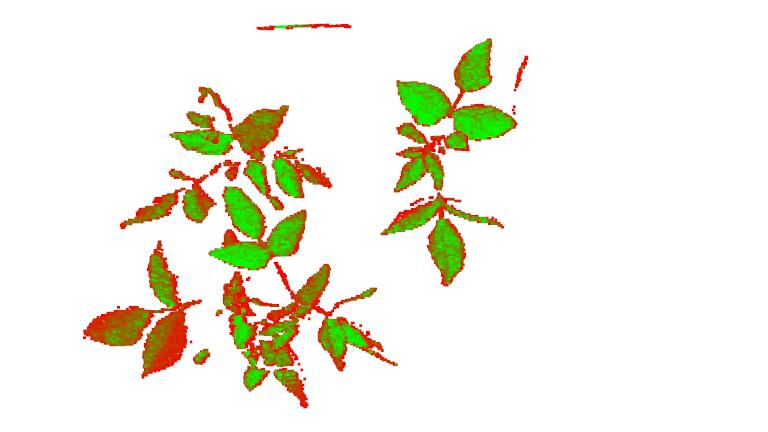mungbean: (215, 187, 399, 422), (381, 35, 520, 291), (113, 84, 330, 229), (81, 239, 272, 394)
